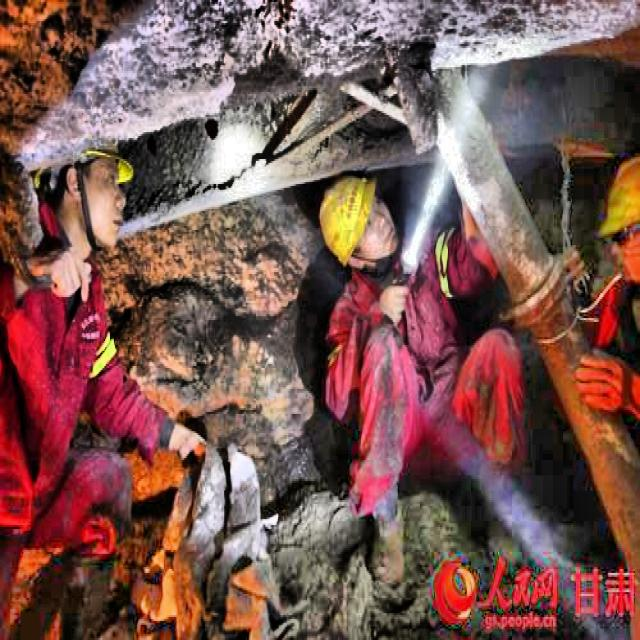helmet: (27, 96, 134, 264), (316, 178, 394, 270), (596, 152, 638, 290)
